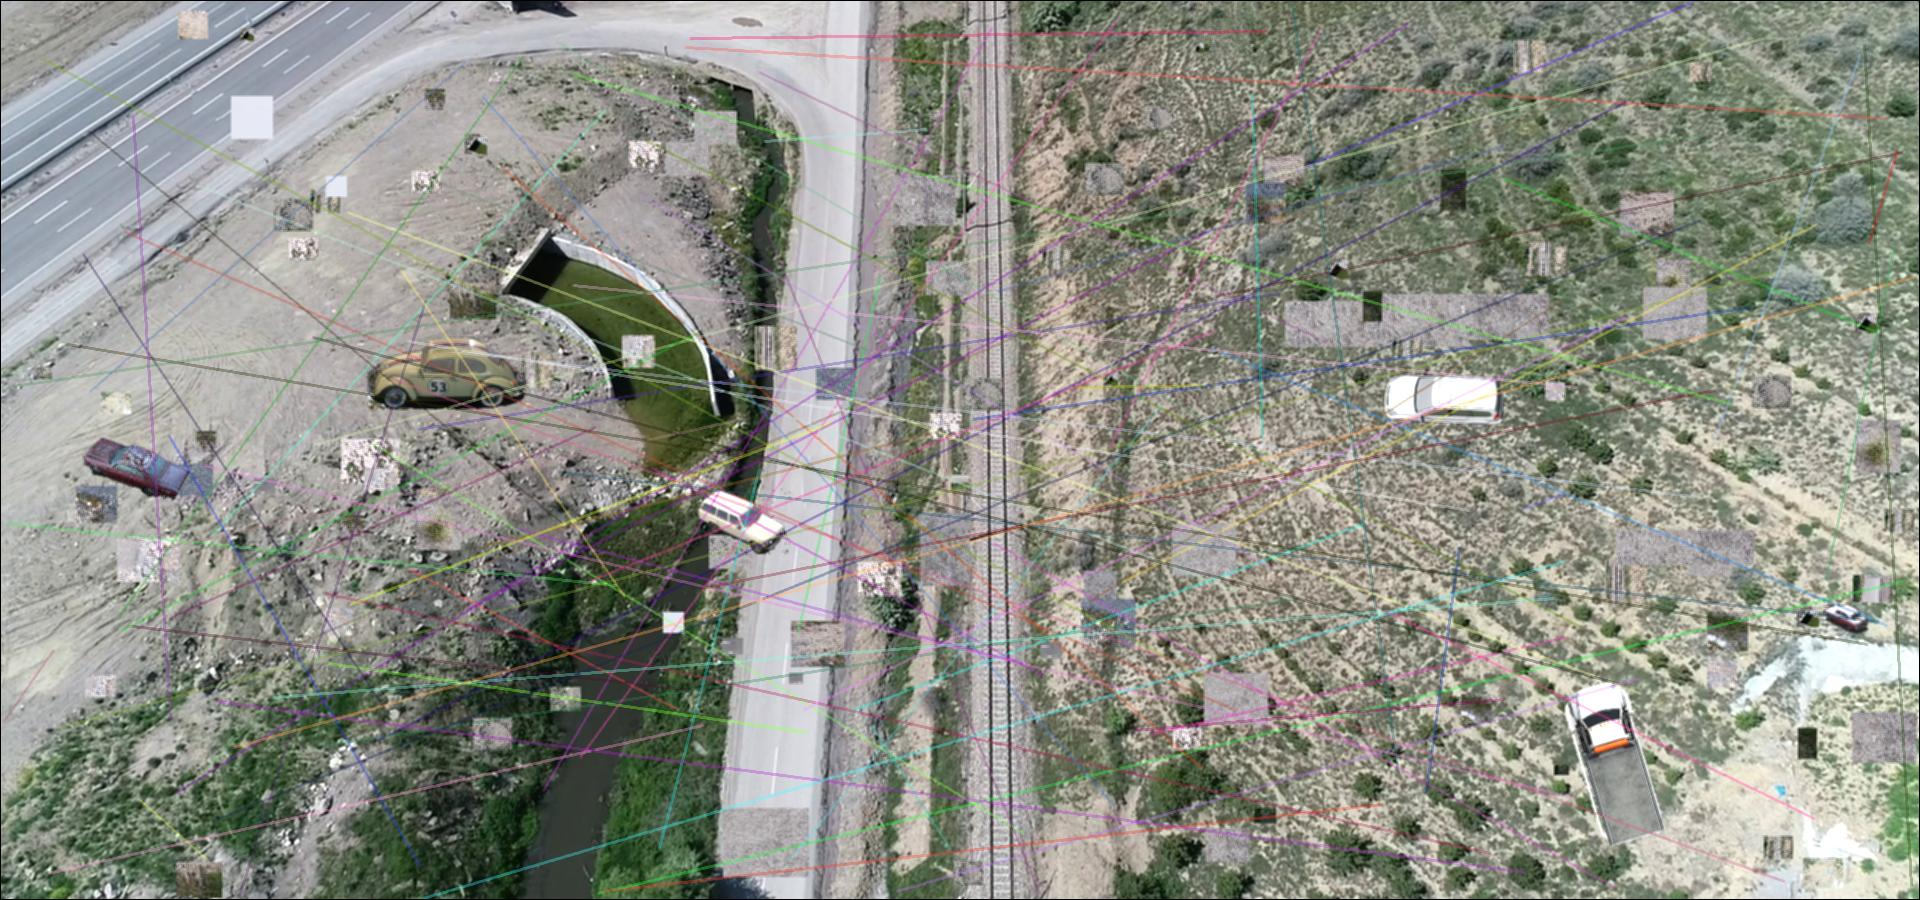arac: (1562, 680, 1669, 847), (362, 337, 531, 411), (1382, 369, 1506, 437), (82, 433, 192, 500), (696, 489, 790, 553), (1824, 602, 1870, 634)
